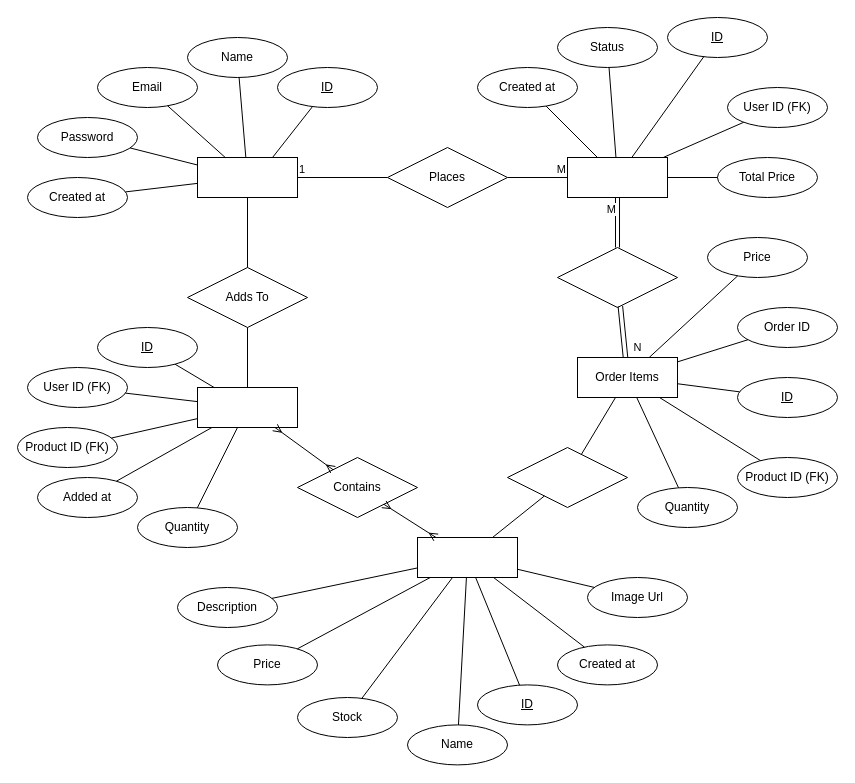
The diagram is 855 pixels wide and 783 high, and some of its shapes have lost their labels. Here are the shapes that lost their labels. From the top down, the centre of each, then its label:
(247,177): Users
(617,177): Order
(617,277): Includes
(247,407): Cart
(567,477): Part of
(467,557): Products
